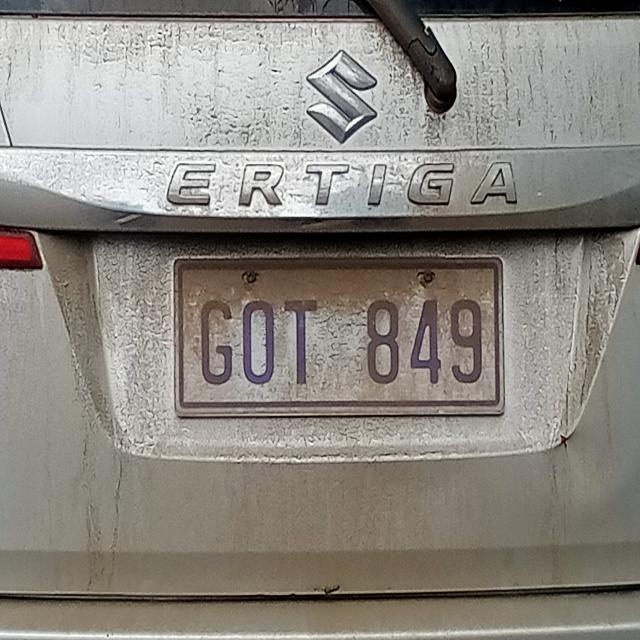plate: (170, 253, 508, 422)
